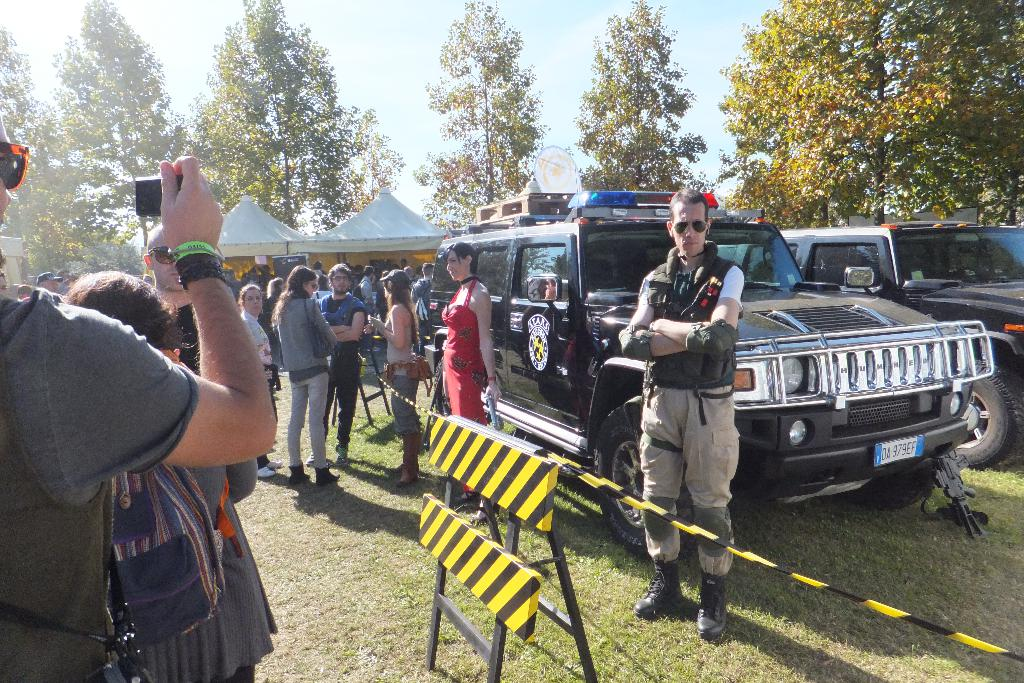Car: (425, 190, 991, 559), (723, 224, 1023, 470)
